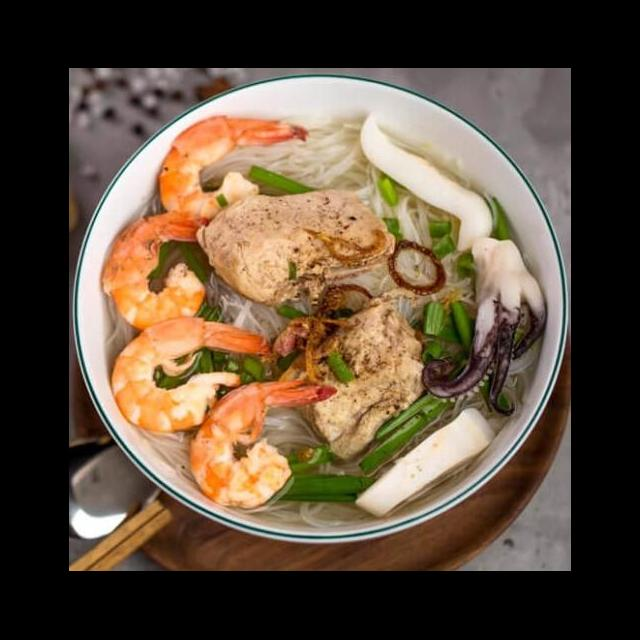banh hu tieu: (323, 184, 482, 324), (199, 109, 378, 198), (242, 402, 358, 534), (202, 266, 317, 348)
hu tieu: (70, 102, 571, 543)
muc: (415, 232, 551, 422), (354, 104, 501, 256), (352, 404, 503, 520)
tom: (104, 310, 278, 436), (185, 376, 343, 512), (153, 110, 313, 228), (93, 208, 224, 334)
